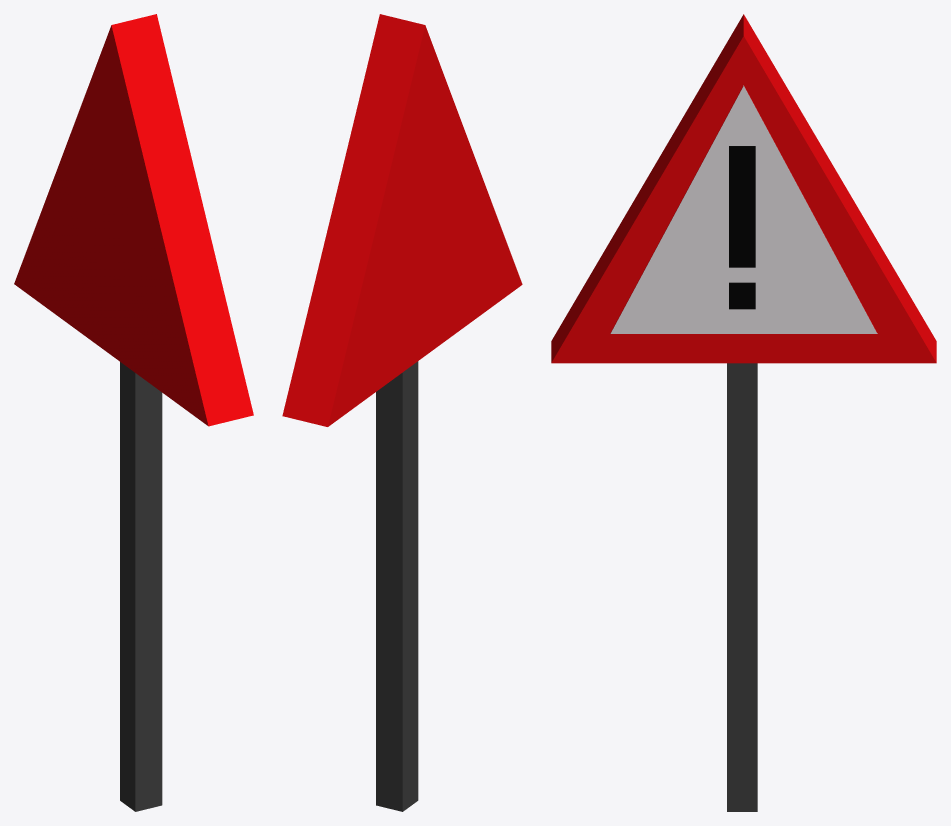
Rendered from Placa_Aviso.fbx.
3 renders of one model, left to right at view 1: azimuth 30°, elevation 25°; view 2: azimuth 150°, elevation 25°; view 3: azimuth 270°, elevation 25°, orthographic.
Parts seen in each view (by area): view 1: Cube.001; view 2: Cube.001; view 3: Cube.001.
Boxes of the visible parts, x1,y1,x2,y2 form: Cube.001: (14,14,253,811); Cube.001: (282,14,522,811); Cube.001: (551,14,936,811).
Bounding box in the file's own units: 22.71 × 347 × 156.
